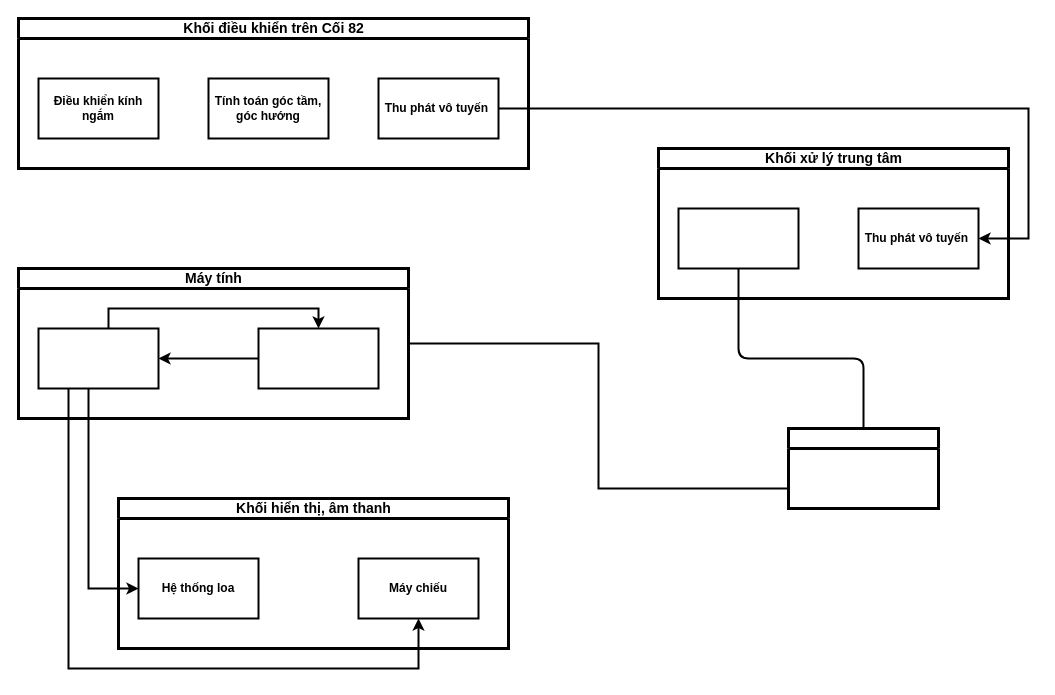
This 1055x695 diagram has some shape labels left out. The centre of each missing label's shape, as x and y in pixels:
Kết nối mạng: point (738, 238)
Phần mềm 3D: point (98, 358)
Phần mềm giáo viên: point (318, 358)
Switch: point (863, 468)
